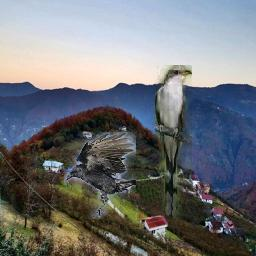Crow: (64, 133, 136, 220)
Cuckoo: (156, 65, 193, 219)
